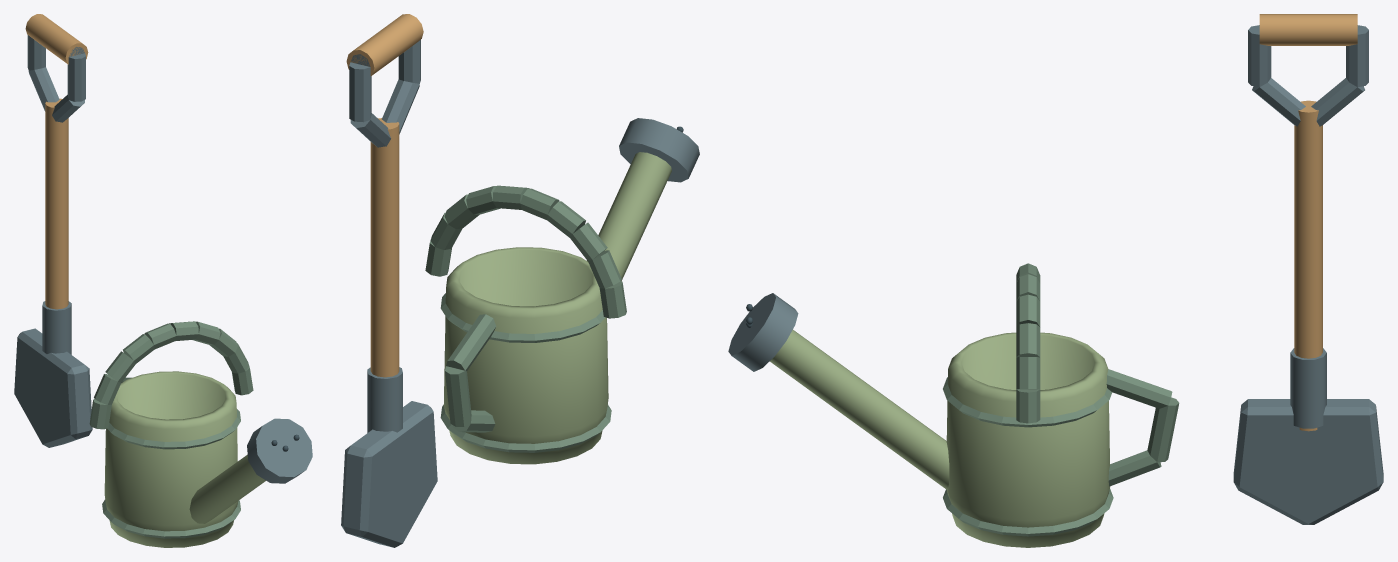
Rendered from SM_WateringTools.fbx.
3 renders of one model, left to right at view 1: azimuth 30°, elevation 25°; view 2: azimuth 150°, elevation 25°; view 3: azimuth 270°, elevation 25°, orthographic. The views are drawn at different scales.
Parts seen in each view (by area): view 1: SM_WateringTools; view 2: SM_WateringTools; view 3: SM_WateringTools.
Boxes of the visible parts, <box> form: SM_WateringTools: <box>14,14,312,547</box>; SM_WateringTools: <box>341,14,699,547</box>; SM_WateringTools: <box>728,14,1383,547</box>.
Bounding box in the file's own units: 0.5133 × 1.47 × 1.26.
